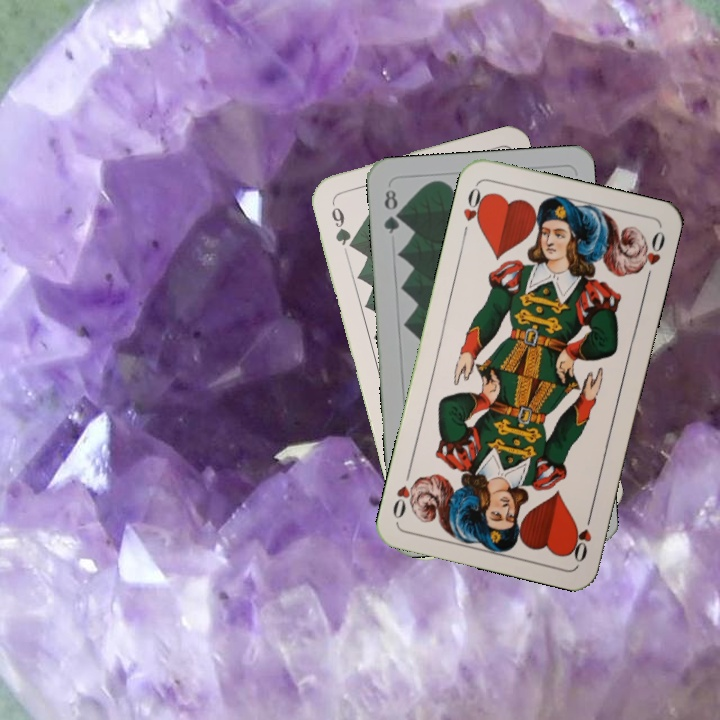G8: (379, 185, 403, 237)
G9: (327, 198, 357, 252)
HO: (458, 181, 490, 240), (567, 507, 596, 565)
